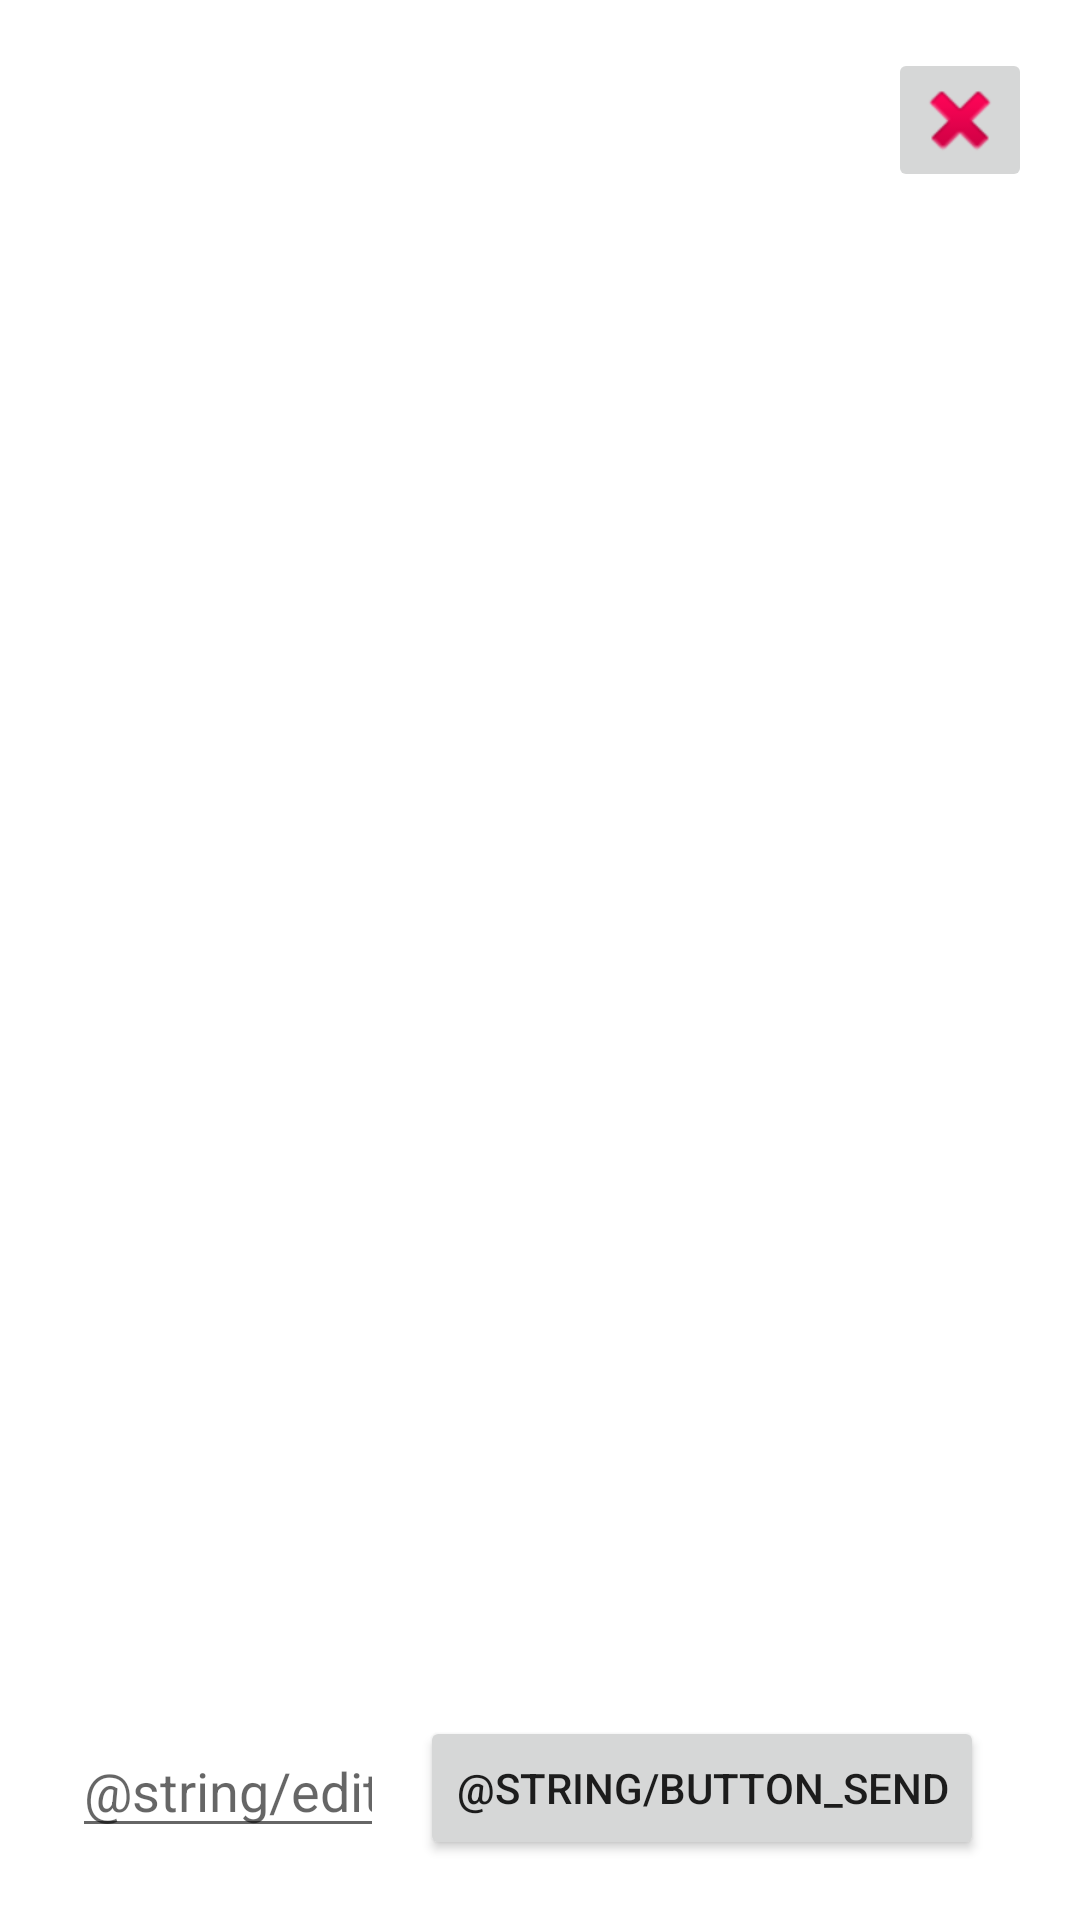

Icons on this 1080px x 1920px Android screen, each with the point to tap as (x,y):
delete: (960,120)
